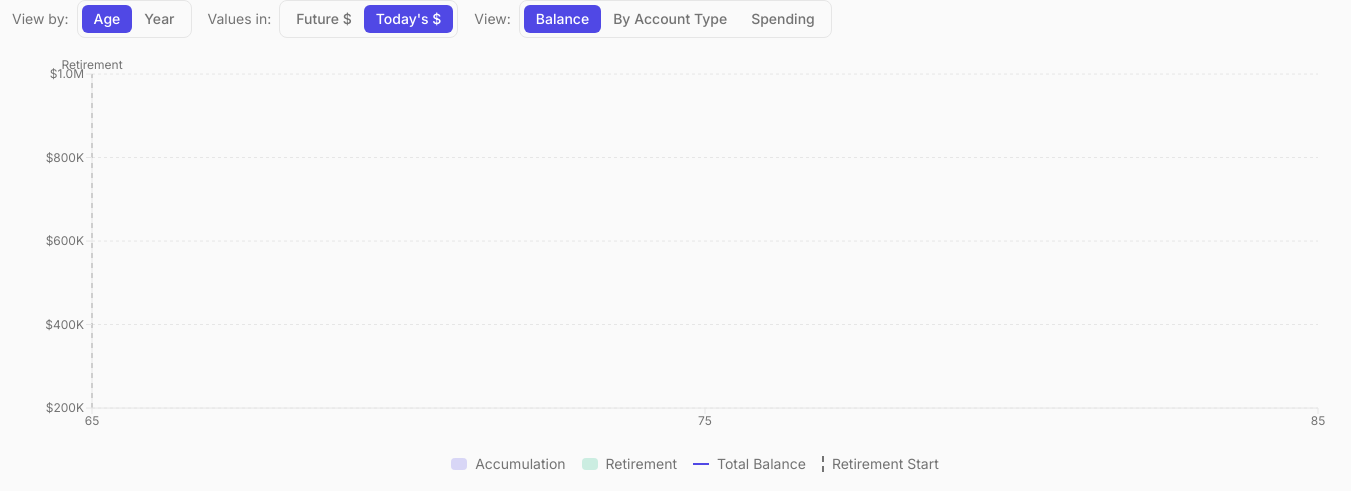
Test: ProjectionChart - Spending View › shows spending legend items when in spending view
The width and height of the screenshot is (1351, 491).
Switch to spending view
Step 1. Click the button "Spending" → (783, 19), box [739,5,827,33]
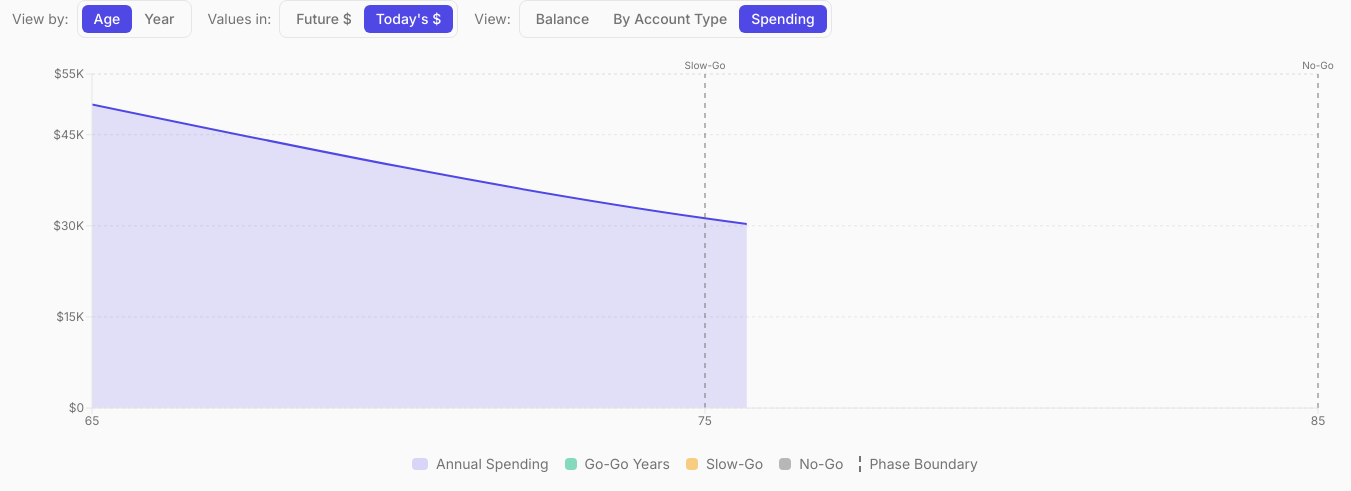
Expected: the text "Annual Spending" is shown, [436,454,549,474]
Expected: the text "Phase Boundary" is shown, [869,454,978,474]
Expected: the text "Accumulation" is gone
